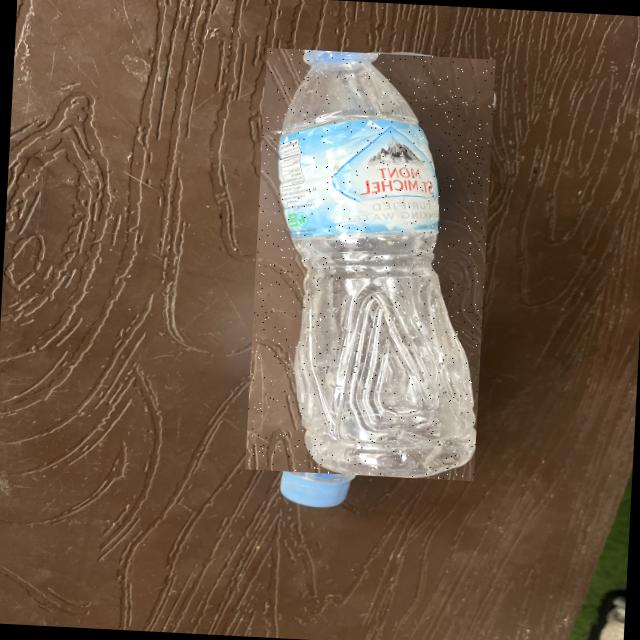REJECT: (244, 48, 495, 481)
